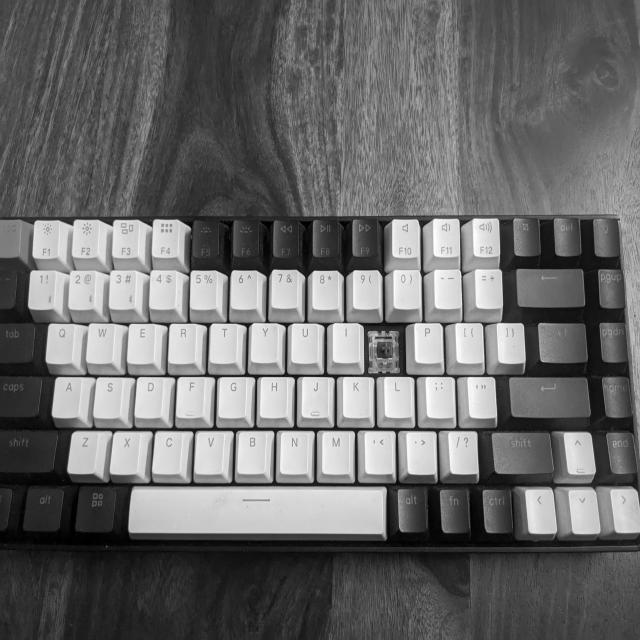C: (365, 326, 403, 375)
